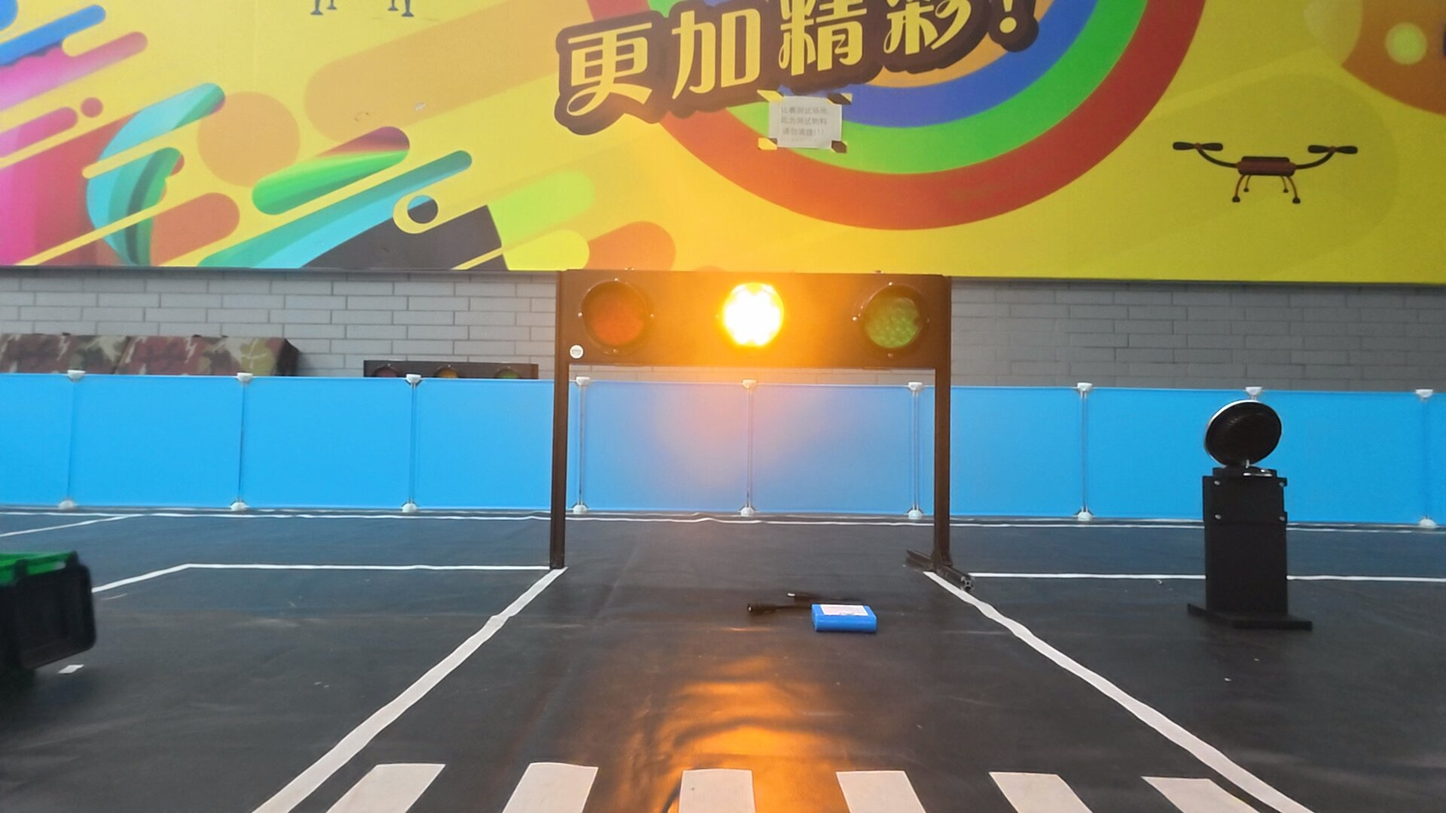stop: (715, 280, 789, 352)
